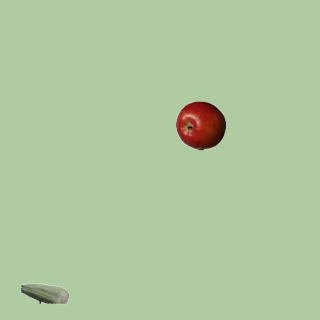Apple Braeburn: (175, 100, 225, 150)
Corn Husk: (19, 268, 69, 318)
